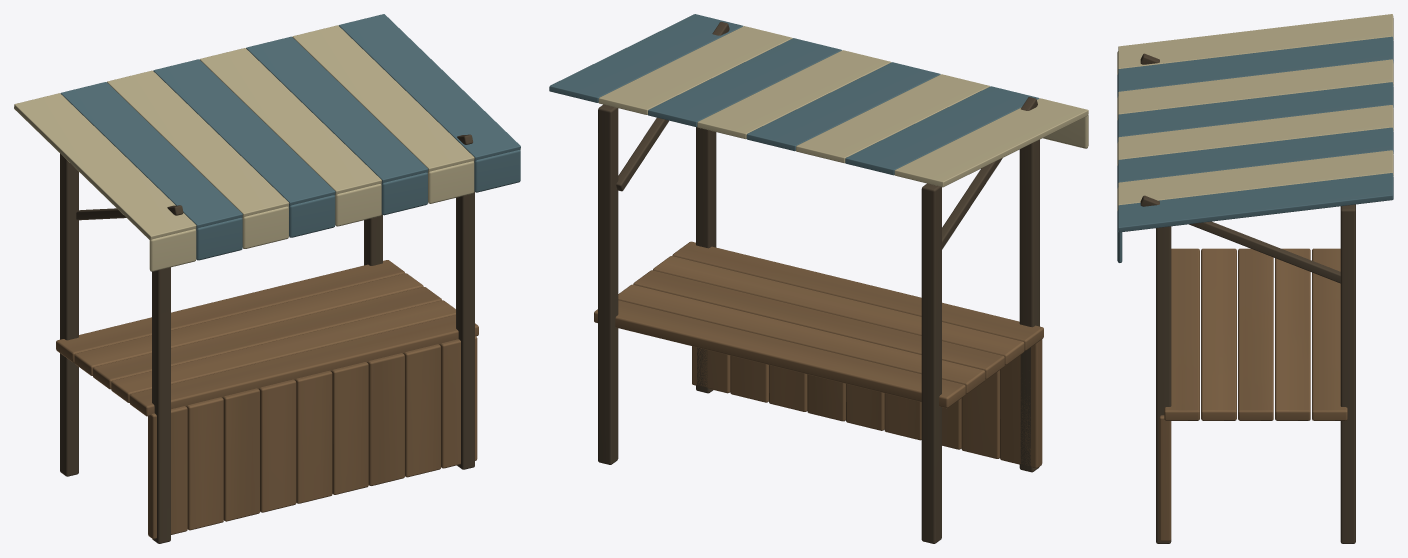
The model's file is stall.glb.
3 renders of one model, left to right at view 1: azimuth 30°, elevation 25°; view 2: azimuth 150°, elevation 25°; view 3: azimuth 270°, elevation 25°, orthographic. The views are drawn at different scales.
Parts seen in each view (by area): view 1: Market Stall; view 2: Market Stall; view 3: Market Stall.
Boxes of the visible parts, x1,y1,x2,y2 form: Market Stall: (14,14,520,543); Market Stall: (549,14,1088,543); Market Stall: (1117,14,1393,543).
Size of the model in its own units: 2.56 by 2.38 by 1.64.
4 materials, 2 textured.
